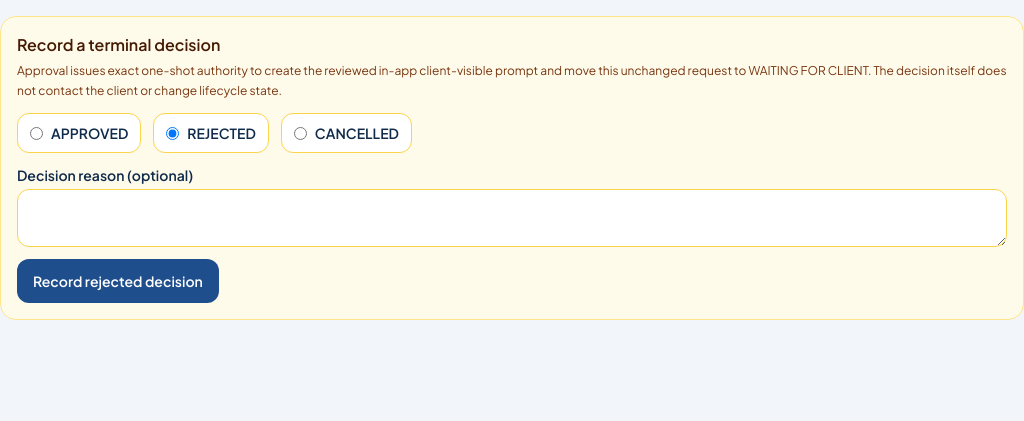
Scenario: ApprovalDecisionForm › makes founder-approved client contact authority explicit without executing contact
This screenshot has width=1024, height=421.
Check: the text "reviewed in-app client-visible prompt" is shown, box [17,63,1007,98]
Click the radio button labelled "APPROVED": {"x": 36, "y": 133} [30,126,43,140]
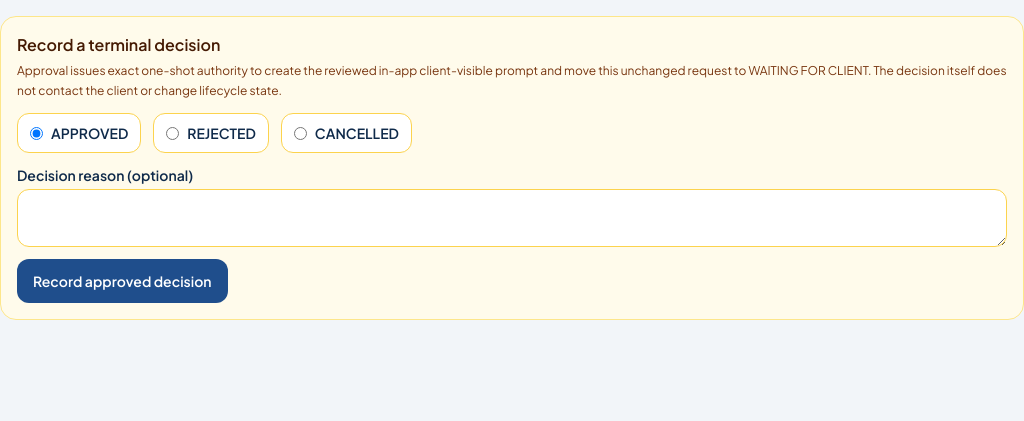
Click the button "Record approved decision": {"x": 122, "y": 281} [17,259,228,303]
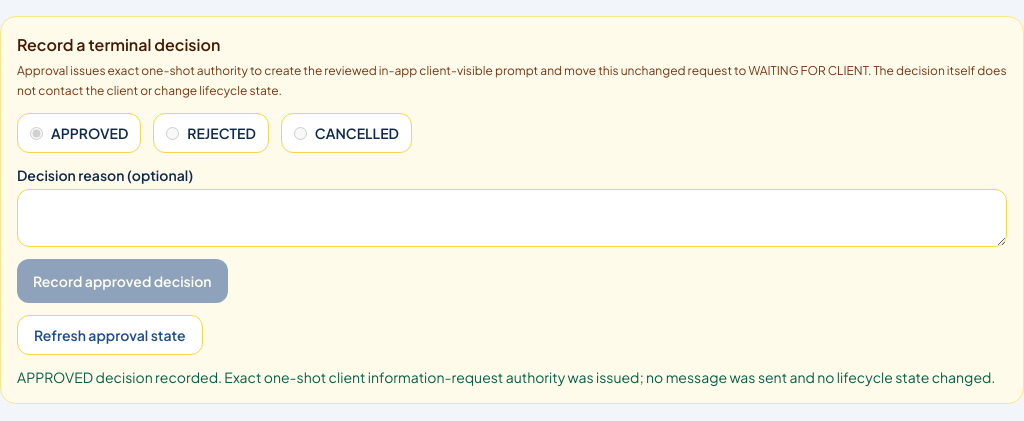
Check: the text "no message was sent and no lifecycle state changed" is shown, box [17,368,995,386]
